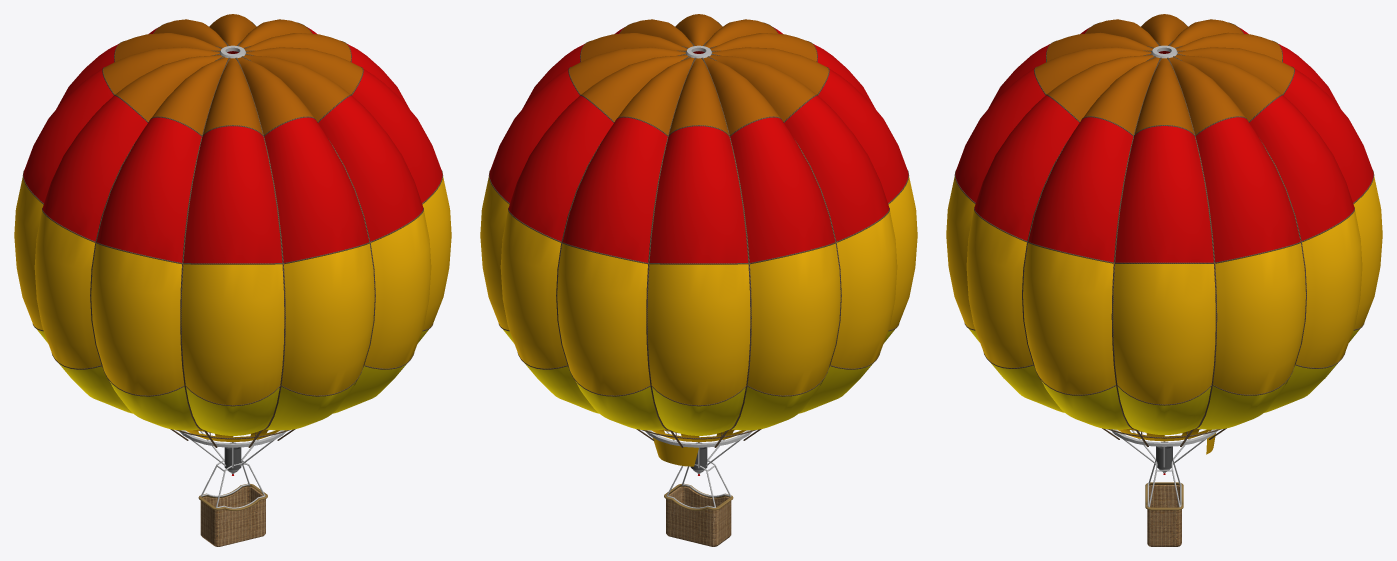
Rendered from HotAirBaloon.fbx.
3 renders of one model, left to right at view 1: azimuth 30°, elevation 25°; view 2: azimuth 150°, elevation 25°; view 3: azimuth 270°, elevation 25°, orthographic.
Parts seen in each view (by area): view 1: HotAirBaloon; view 2: HotAirBaloon; view 3: HotAirBaloon.
Part boxes in pixels (x1=…): HotAirBaloon: x1=14, y1=14, x2=451, y2=546; HotAirBaloon: x1=480, y1=14, x2=917, y2=546; HotAirBaloon: x1=946, y1=14, x2=1382, y2=546.
Bounding box in the file's own units: 1417 × 1742 × 1417.
